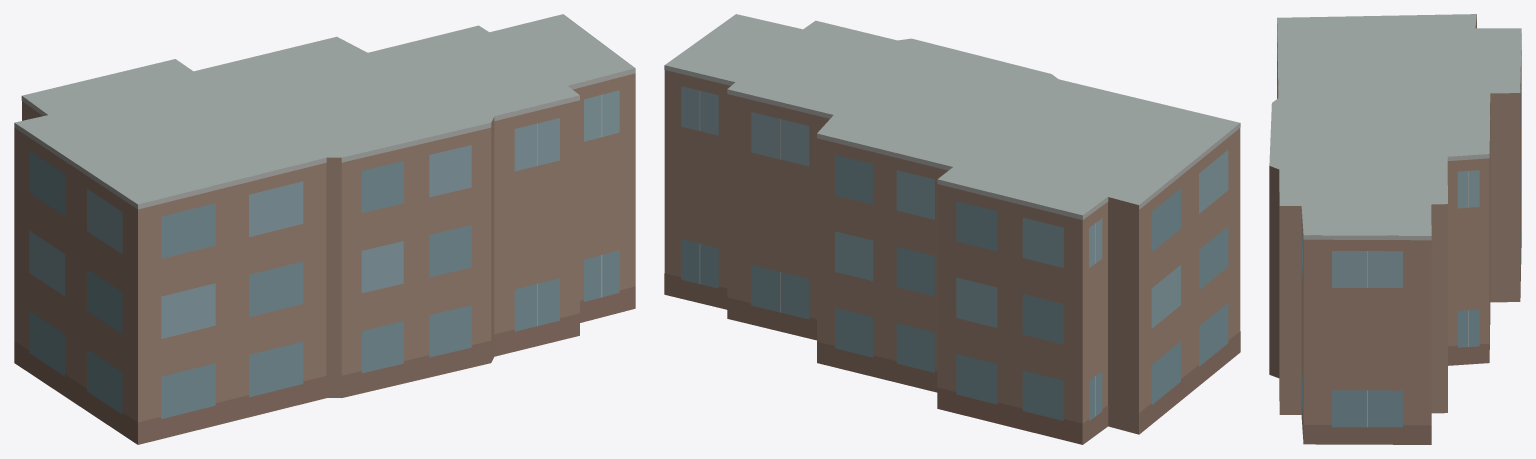
Rendered from survey-upis-32468079.glb.
3 renders of one model, left to right at view 1: azimuth 30°, elevation 25°; view 2: azimuth 150°, elevation 25°; view 3: azimuth 270°, elevation 25°, orthographic. The views are drawn at different scales.
Parts seen in each view (by area): view 1: survey-upis-32468079.tmp; view 2: survey-upis-32468079.tmp; view 3: survey-upis-32468079.tmp.
Boxes of the visible parts, box(x1,y1,x2,y2) form: survey-upis-32468079.tmp: box(14, 14, 635, 444); survey-upis-32468079.tmp: box(664, 14, 1240, 444); survey-upis-32468079.tmp: box(1269, 14, 1521, 444).
Size of the model in its own units: 27 by 11.85 by 12.97.
